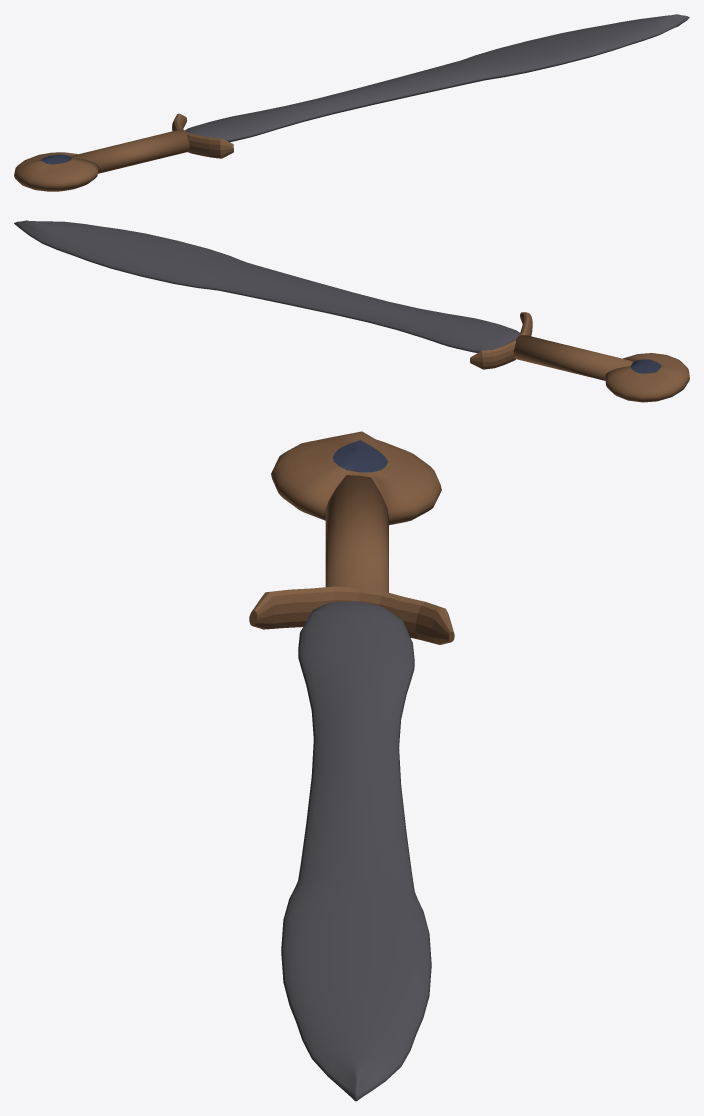
Rendered from daggerAsset.fbx.
3 views of the same model, one above another, from view 1: azimuth 30°, elevation 25°; view 2: azimuth 150°, elevation 25°; view 3: azimuth 270°, elevation 25° (orthographic). The views are drawn at different scales.
Visible parts, largest first — view 1: Handle; view 2: Handle; view 3: Handle.
Part boxes in pixels (x1,y1,x2,y2): Handle: (14, 14, 689, 191); Handle: (14, 220, 689, 402); Handle: (249, 431, 454, 1101).
Bounding box in the file's own units: 147 × 5.86 × 19.48.
1 material, 1 textured.
